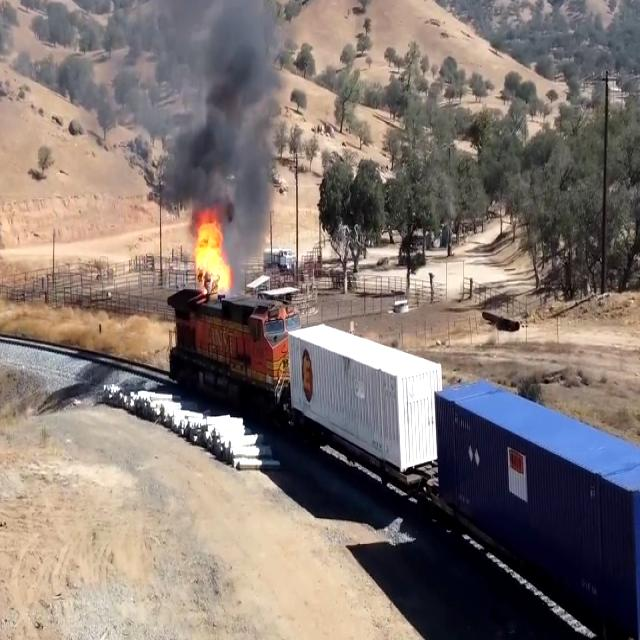fire: (195, 228, 233, 294)
smoke: (202, 0, 282, 217)
